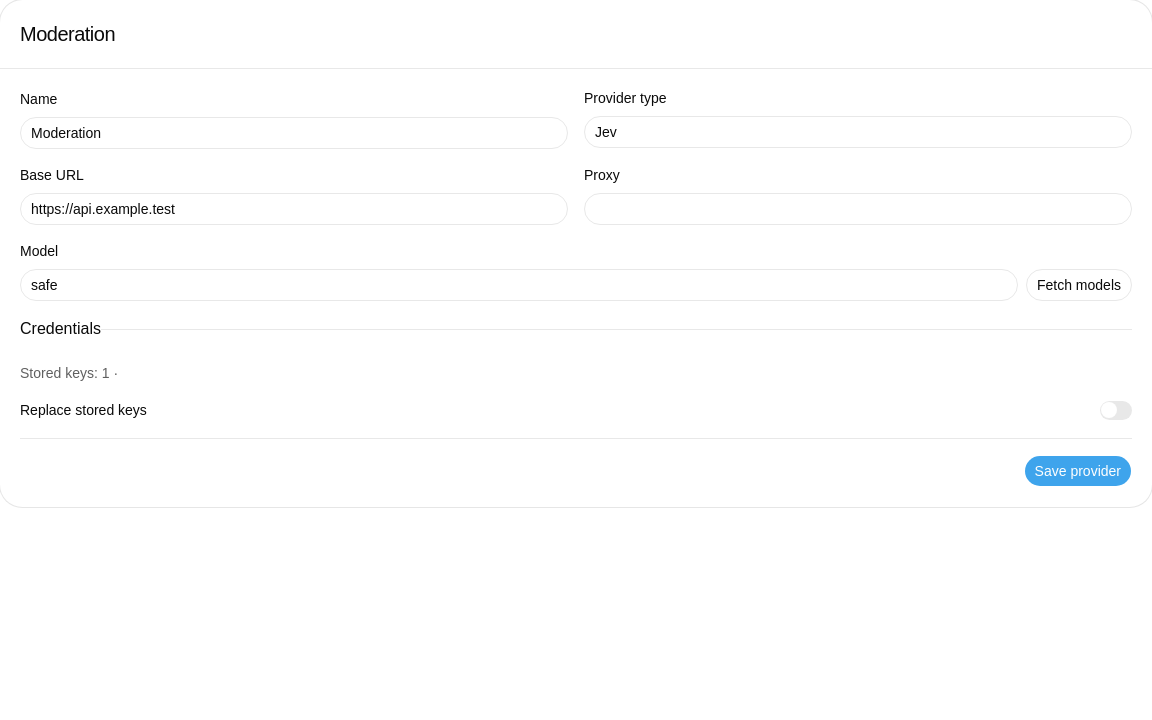
Test: keeps a provider save failure visible and preserves the entered settings
Replace the text in the field named "Model" with "next-model". click: (519, 285)
box: [20, 269, 1018, 301]
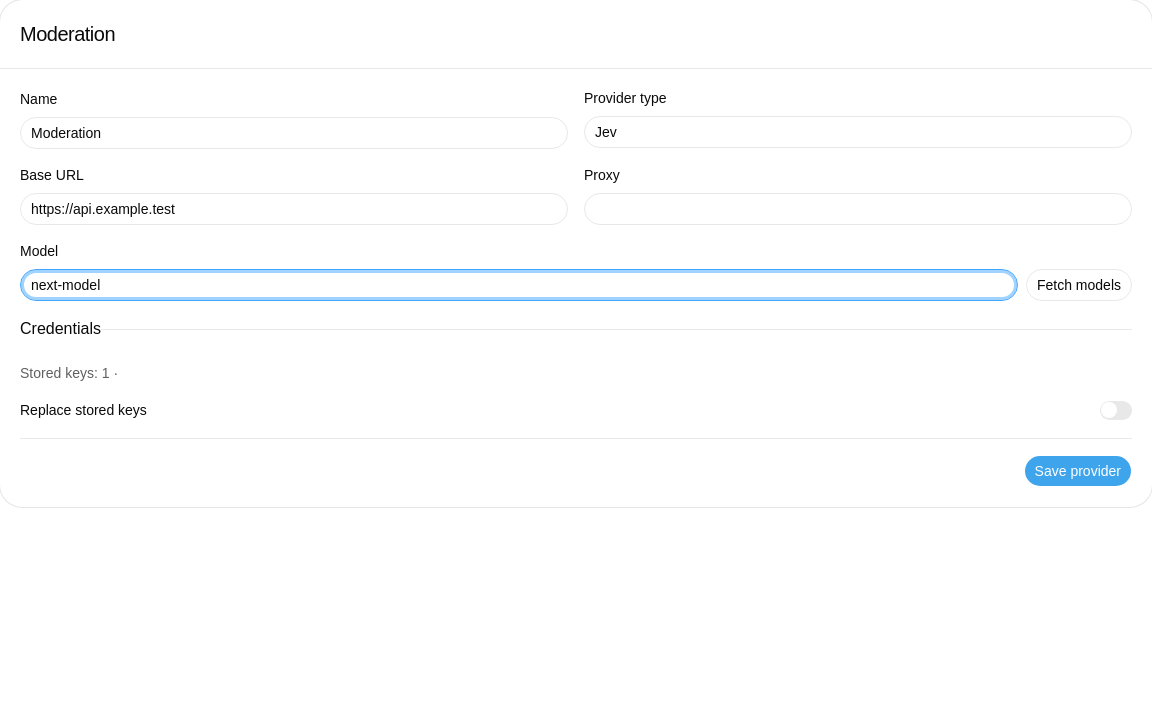
Click the button "Save provider". click: (1078, 471)
box: [1024, 455, 1132, 487]
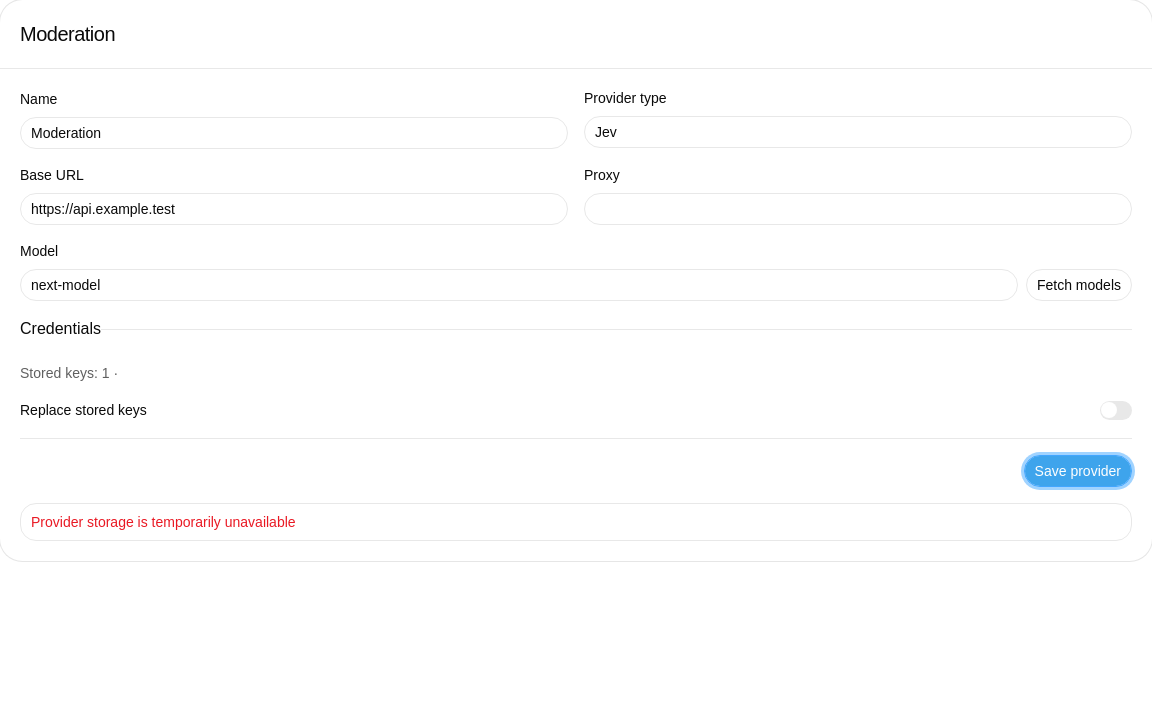
Expected: the message reads "Provider storage is temporarily unavailable", [31, 514, 296, 530]
